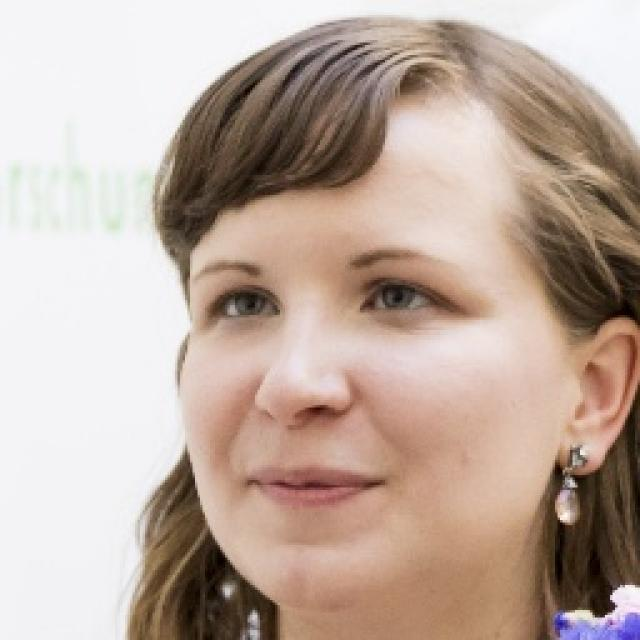earlobe: (550, 315, 640, 475)
